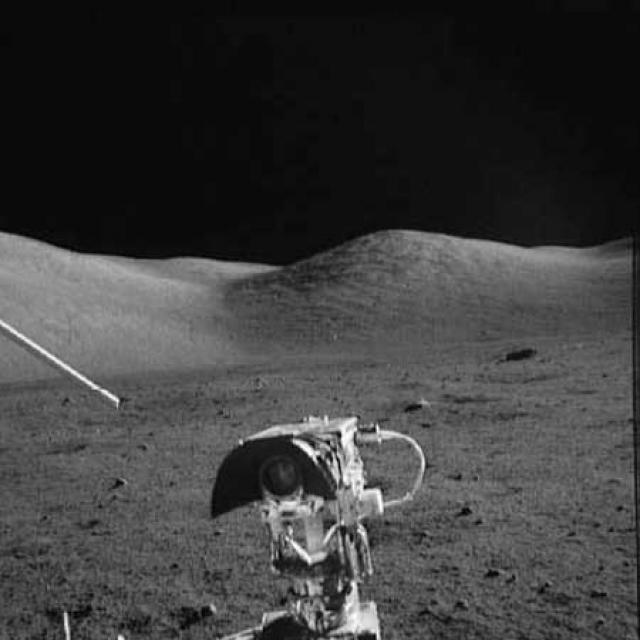artifact: (202, 407, 430, 639), (0, 312, 125, 409)
crater: (2, 432, 106, 464), (486, 335, 546, 363)
